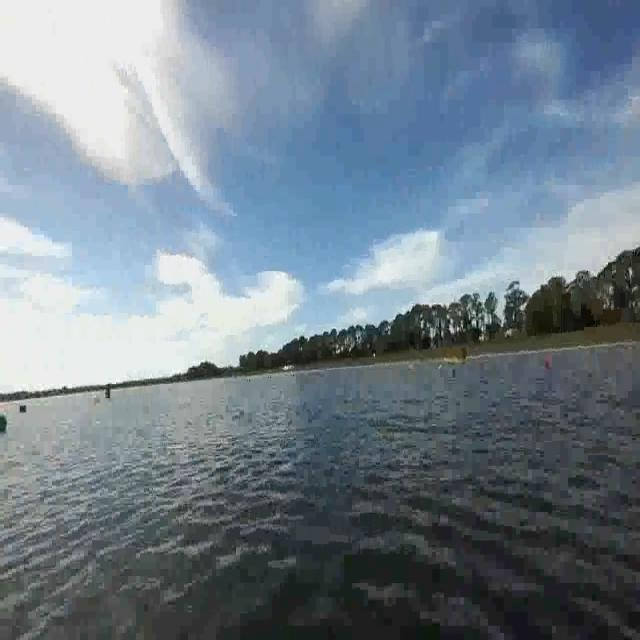green-buoy: (0, 413, 8, 433)
